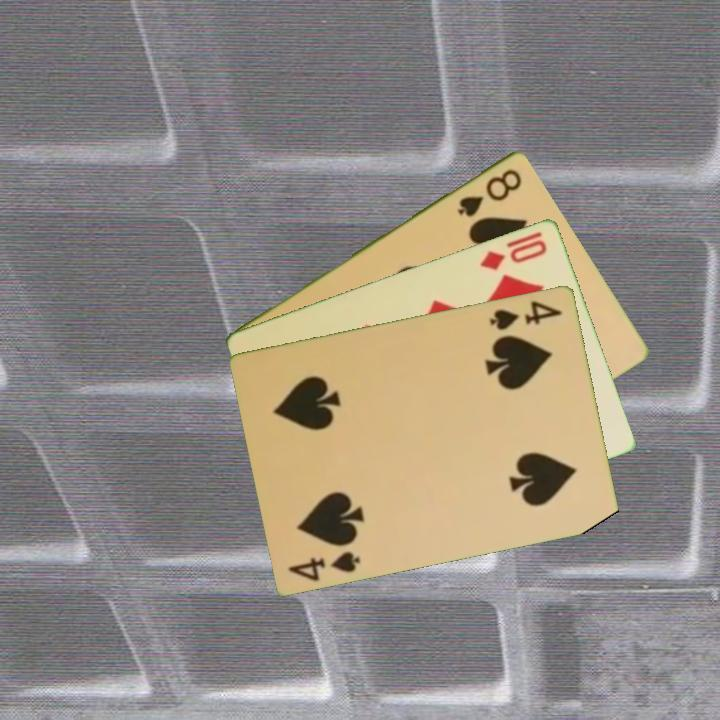10d: (476, 235, 550, 273)
4s: (486, 296, 566, 333), (284, 547, 364, 584)
8s: (453, 165, 525, 220)
